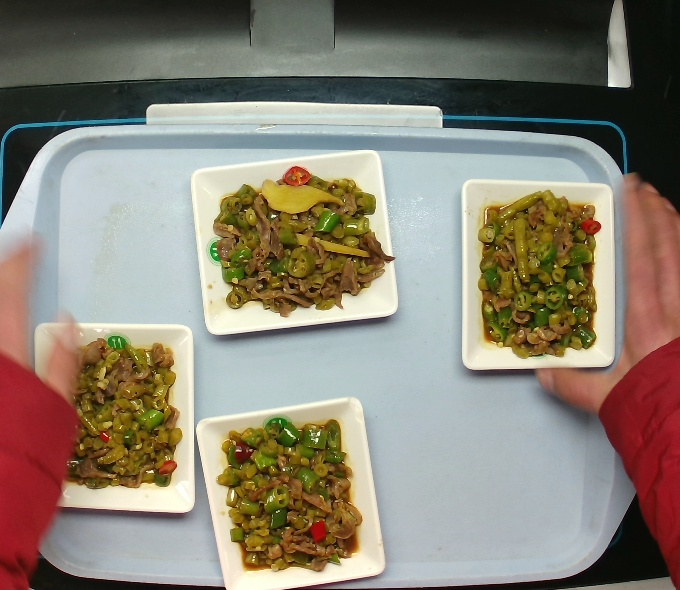wcq-SuanDouJiaoChaoJiZhen: (205, 167, 398, 319), (218, 409, 370, 581), (459, 190, 604, 364), (48, 337, 190, 495)
